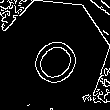O_NE: (21, 20, 87, 87)
